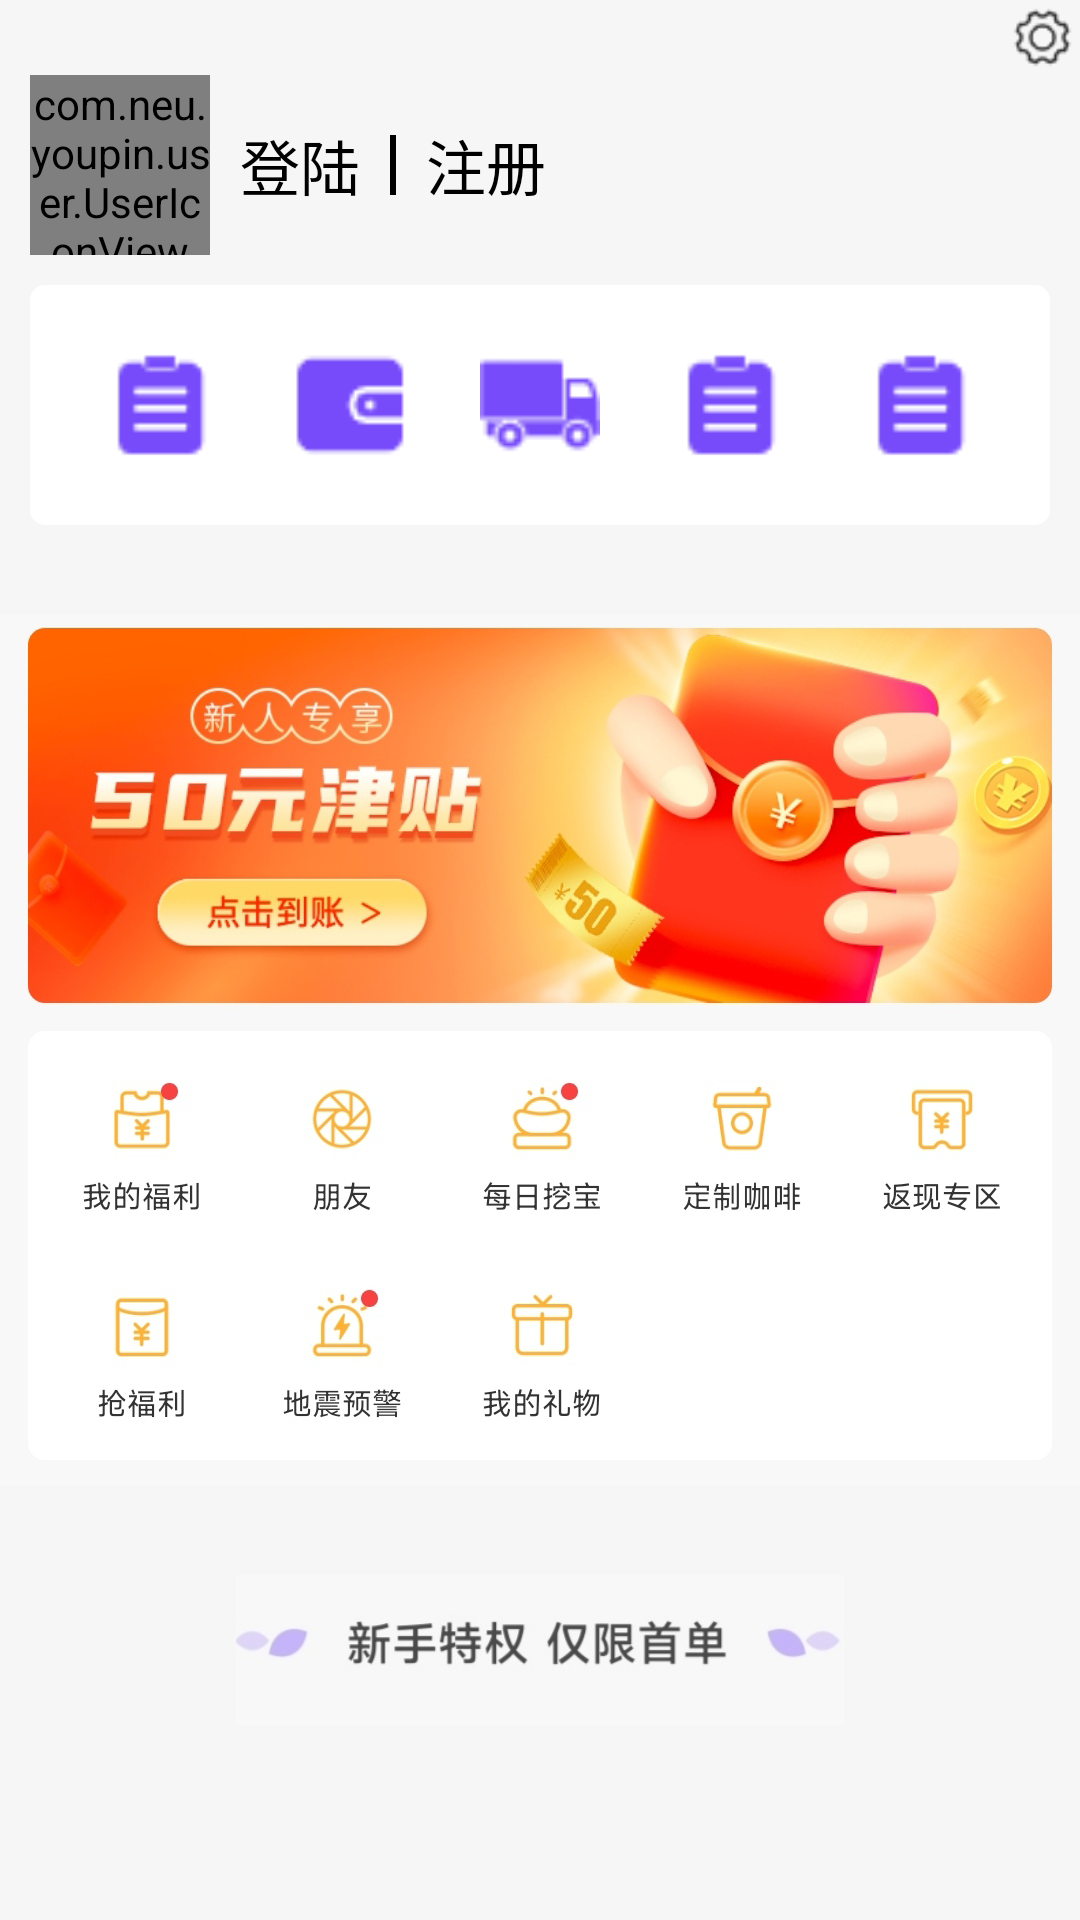

Screen size 1080w x 1920h. Icon name, then its box in pixels as box=[x1, y1, x2, y2]:
user order: box=[117, 355, 205, 455], box=[687, 355, 775, 455], box=[877, 355, 965, 455]
user pay: box=[296, 356, 404, 454]
user setting: box=[1014, 9, 1071, 66]
